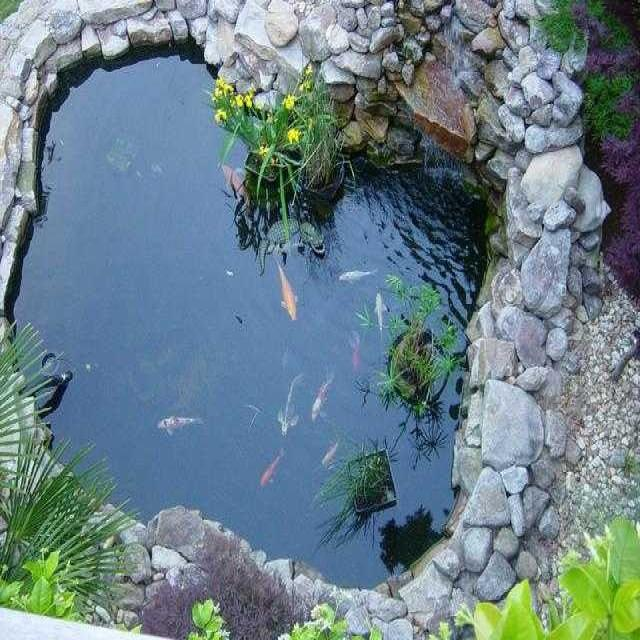Ponds: (1, 1, 618, 640)
